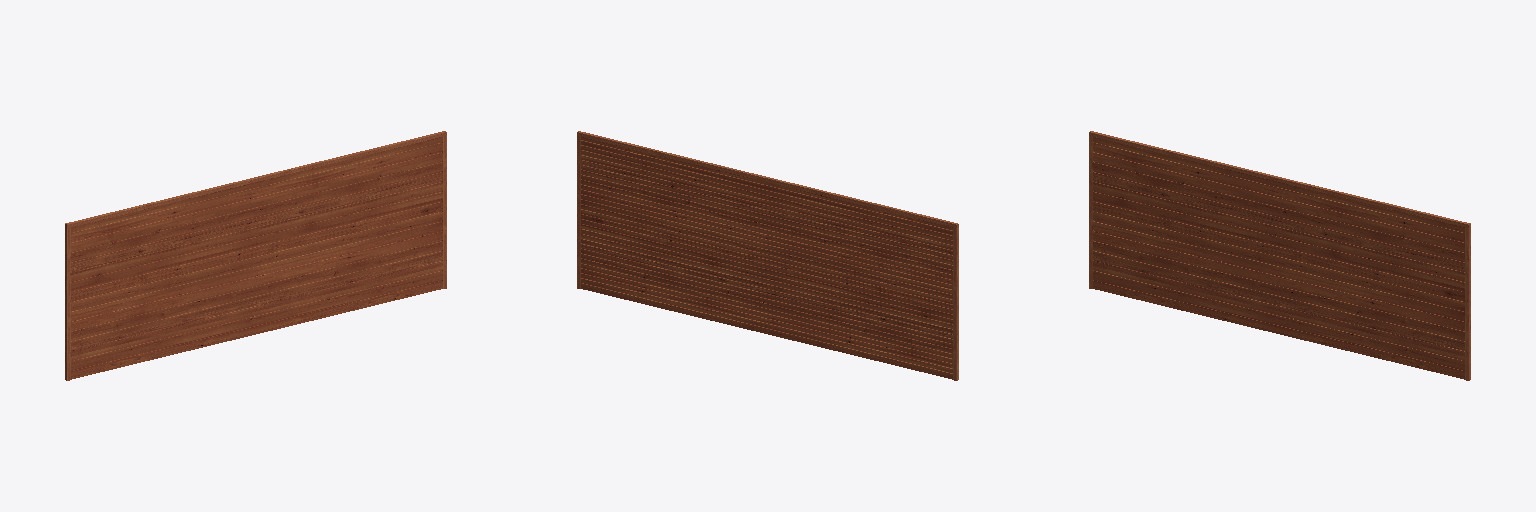
3 views of the same model, side by side, from view 1: azimuth 30°, elevation 25°; view 2: azimuth 150°, elevation 25°; view 3: azimuth 330°, elevation 25° (orthographic).
Visible parts, largest first — view 1: wall_planks, trim_top, trim_left, trim_right; view 2: wall_planks, trim_top, trim_left, trim_right; view 3: wall_planks, trim_top, trim_right, trim_left.
Boxes of the visible parts, <box> form: wall_planks: <box>71,137,442,379</box>; trim_top: <box>65,131,446,227</box>; trim_left: <box>65,227,70,380</box>; trim_right: <box>442,136,446,288</box>; wall_planks: <box>581,137,952,379</box>; trim_top: <box>577,131,958,227</box>; trim_left: <box>953,227,958,380</box>; trim_right: <box>577,136,581,288</box>; wall_planks: <box>1093,137,1464,379</box>; trim_top: <box>1089,131,1470,227</box>; trim_right: <box>1465,227,1470,380</box>; trim_left: <box>1089,136,1093,288</box>.
Size of the model in its own units: 240 by 94.5 by 1.82.
2 materials, 2 textured.